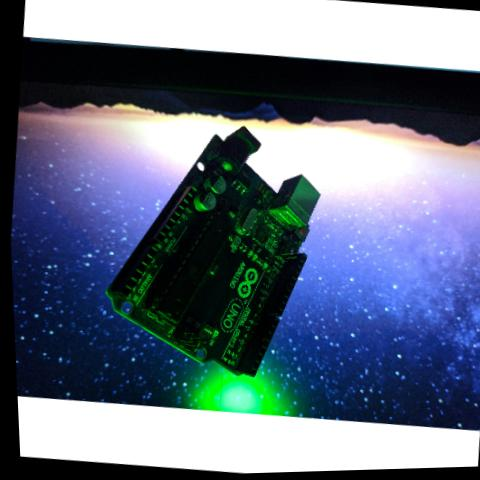Arduino-Uno: (91, 109, 334, 389)
